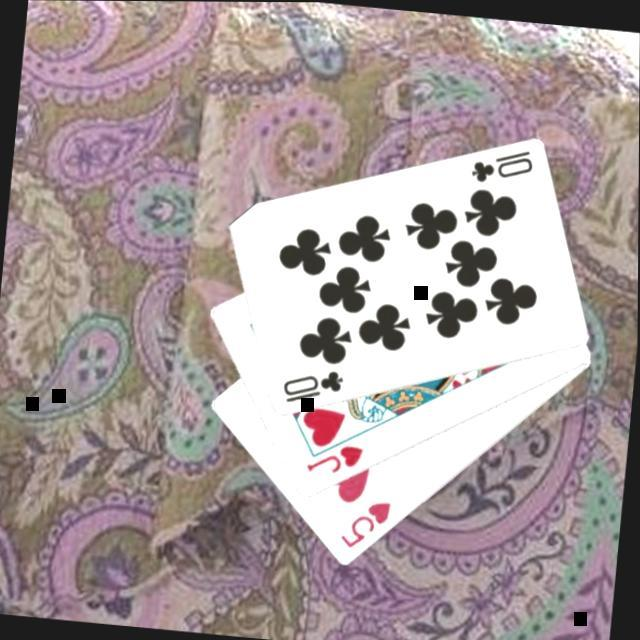10C: (464, 139, 535, 187), (276, 360, 346, 408)
5H: (334, 492, 394, 552)
JH: (300, 437, 366, 478)
